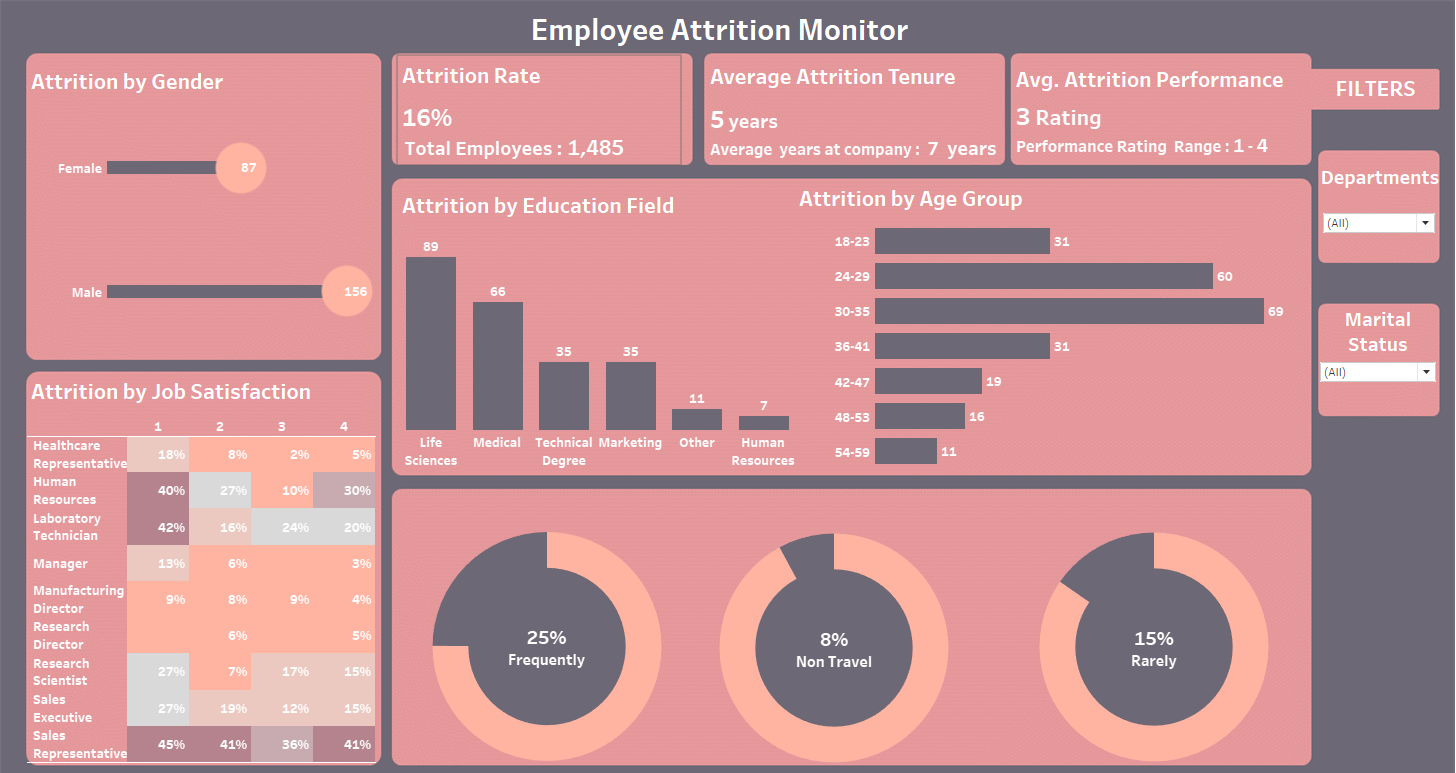

This screenshot's page, from the dashboard's own definition file:
{"tool":"tableau","page":{"name":"Employee Attrition Monitor","canvas":[1500,800],"ordinal":0},"visuals":[{"type":"image","param":"C:/Users/User/Desktop/10Alytics Data Science/Lessons/Week 6/Tableau Week 6 Class","box":[8,8,1484,784]},{"type":"text","box":[550,20,384,40]},{"type":"text","box":[1035,66,291,49]},{"type":"worksheet","title":"Attrition Rate","mark":"Automatic","box":[420,68,282,108]},{"type":"worksheet","title":"Average Attrition Tenure","mark":"Automatic","box":[728,69,312,106]},{"type":"worksheet","title":"Attrition by Gender","mark":"Automatic","rows":["Gender"],"cols":["Calculation_230528050789826560","Calculation_230528050789826560"],"box":[49,74,358,291]},{"type":"text","box":[1355,85,100,30]},{"type":"worksheet","title":"Average Attrition Performance Rating","mark":"Automatic","box":[1034,110,280,73]},{"type":"text","box":[1340,173,121,30]},{"type":"worksheet","title":"Attrition by Age Group","mark":"Automatic","rows":["Age (bin)"],"cols":["Calculation_230528050789826560"],"box":[817,191,514,290]},{"type":"worksheet","title":"Attrition by Education Field","mark":"Automatic","rows":["Calculation_230528050789826560"],"cols":["EducationField"],"box":[420,198,399,284]},{"type":"filter","title":"Attrition by Age Group","param":"[federated.0mxy3en15valfs17utuig0gaob25].[none:Department:nk]","box":[1342,222,118,49]},{"type":"text","box":[1339,315,122,56]},{"type":"filter","title":"Attrition by Age Group","param":"[federated.0mxy3en15valfs17utuig0gaob25].[none:MaritalStatus:nk]","box":[1339,371,122,54]},{"type":"worksheet","title":"Attrition by Job Satisfaction","mark":"Square","rows":["JobRole"],"cols":["EnvironmentSatisfaction"],"box":[49,384,349,391]},{"type":"worksheet","title":"Attrition by Travel Frequently","mark":"Pie","rows":["Calculation_230528050865025036","Calculation_230528050865098766"],"box":[418,522,302,273]},{"type":"worksheet","title":"Attrition by Non Travel ","mark":"Pie","rows":["Calculation_230528050865025036","Calculation_230528050865098766"],"box":[669,527,374,266]},{"type":"worksheet","title":"Attrition by Rarely","mark":"Pie","rows":["Calculation_230528050865025036","Calculation_230528050865098766"],"box":[954,539,444,240]}]}

Visuals, with their boxes in screenshot pixels (x1, y1, x2, y2), scaled from the page's 1500x800 canvas onto the 1456x773 screenshot:
image: locate(8, 8, 1448, 765)
text: locate(534, 19, 907, 58)
text: locate(1005, 64, 1287, 111)
"Attrition Rate" worksheet: locate(408, 66, 681, 170)
"Average Attrition Tenure" worksheet: locate(707, 67, 1009, 169)
"Attrition by Gender" worksheet: locate(48, 72, 395, 353)
text: locate(1315, 82, 1412, 111)
"Average Attrition Performance Rating" worksheet: locate(1004, 106, 1275, 177)
text: locate(1301, 167, 1418, 196)
"Attrition by Age Group" worksheet: locate(793, 185, 1292, 465)
"Attrition by Education Field" worksheet: locate(408, 191, 795, 466)
"Attrition by Age Group" filter: locate(1303, 215, 1417, 262)
text: locate(1300, 304, 1418, 358)
"Attrition by Age Group" filter: locate(1300, 358, 1418, 411)
"Attrition by Job Satisfaction" worksheet (Square marks): locate(48, 371, 386, 749)
"Attrition by Travel Frequently" worksheet (Pie marks): locate(406, 504, 699, 768)
"Attrition by Non Travel " worksheet (Pie marks): locate(649, 509, 1012, 766)
"Attrition by Rarely" worksheet (Pie marks): locate(926, 521, 1357, 753)
